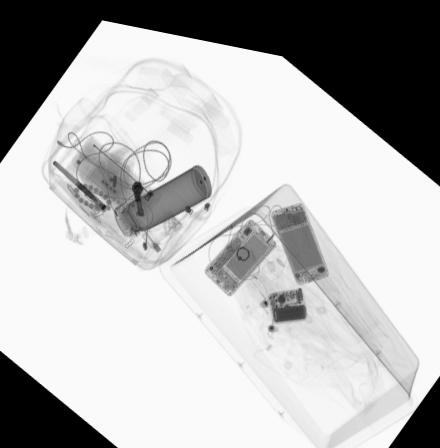Powerbank: (266, 273, 306, 312)
